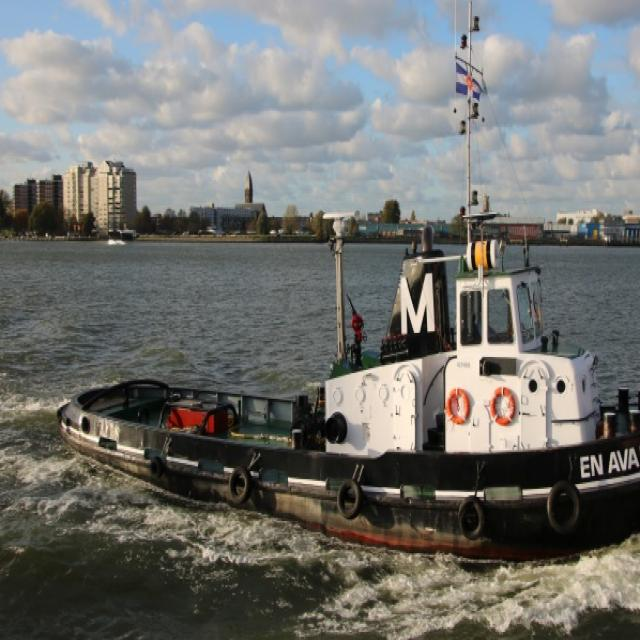tugboat: (50, 1, 640, 582)
